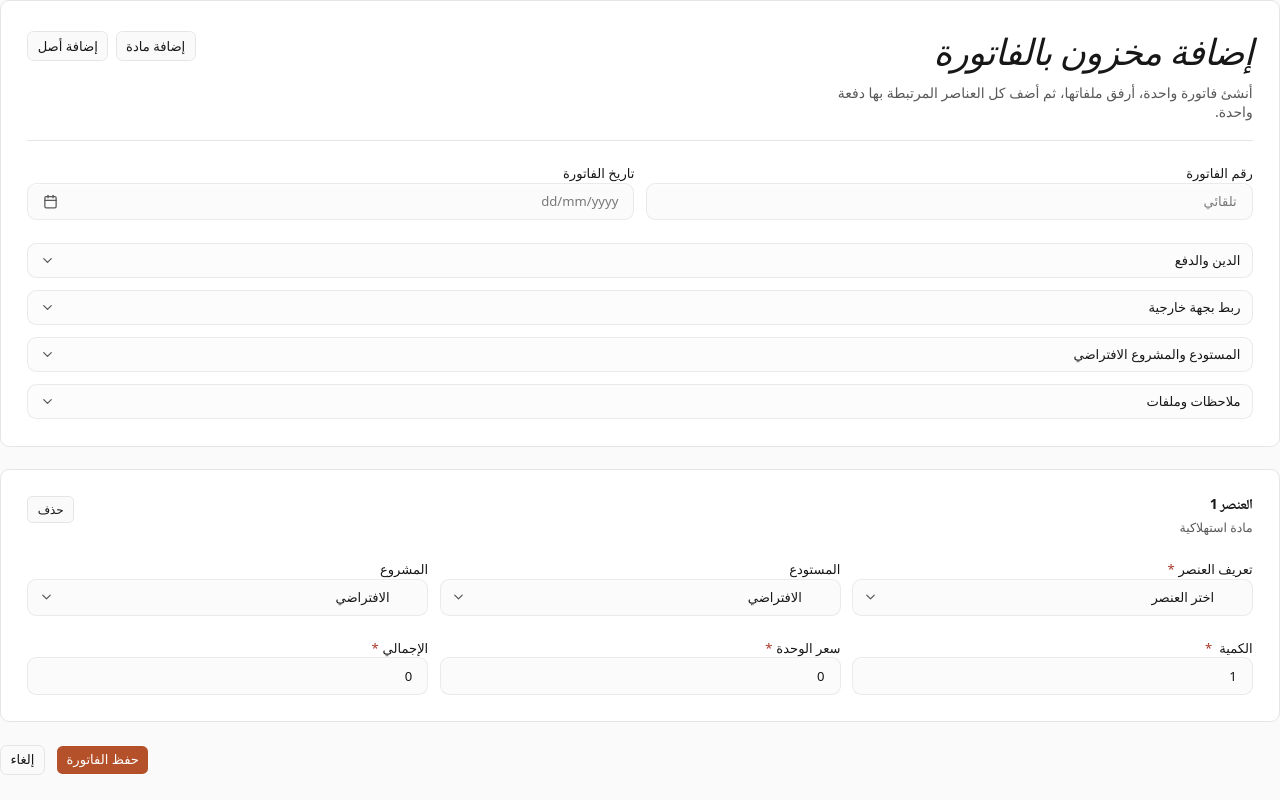
Test: InventoryInvoiceCreatePage progressive disclosure (issue #25) › reveals the counterparty/supplier fields only after opening their section
Expected: the text "الجهة الخارجية" is not shown
Expected: the text "اسم المورد" is not shown
Click the button "ربط بجهة خارجية" at (1195, 307), box [28, 291, 1252, 324]
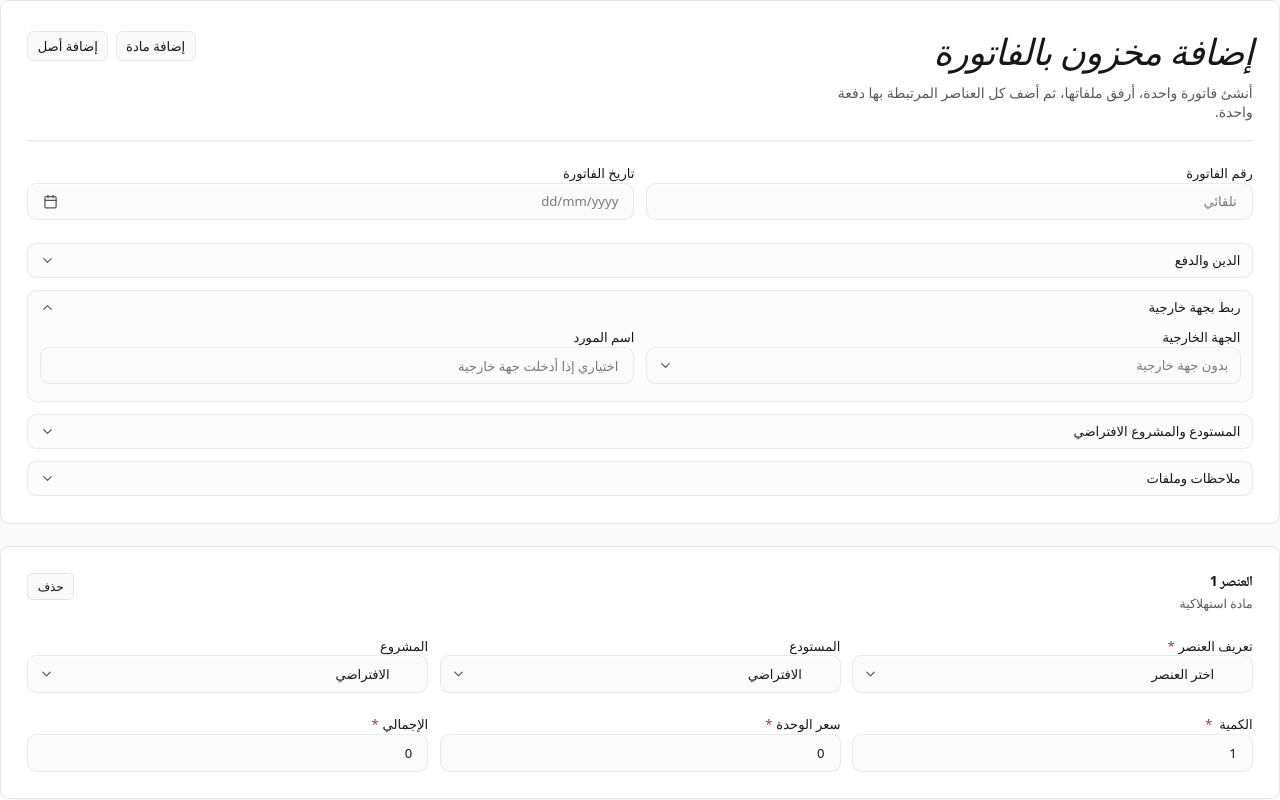
Now the button "ربط بجهة خارجية" is expanded, box [28, 291, 1252, 324]
Now the text "الجهة الخارجية" is shown, box [1162, 328, 1240, 346]
Now the text "اسم المورد" is shown, box [574, 328, 634, 346]
